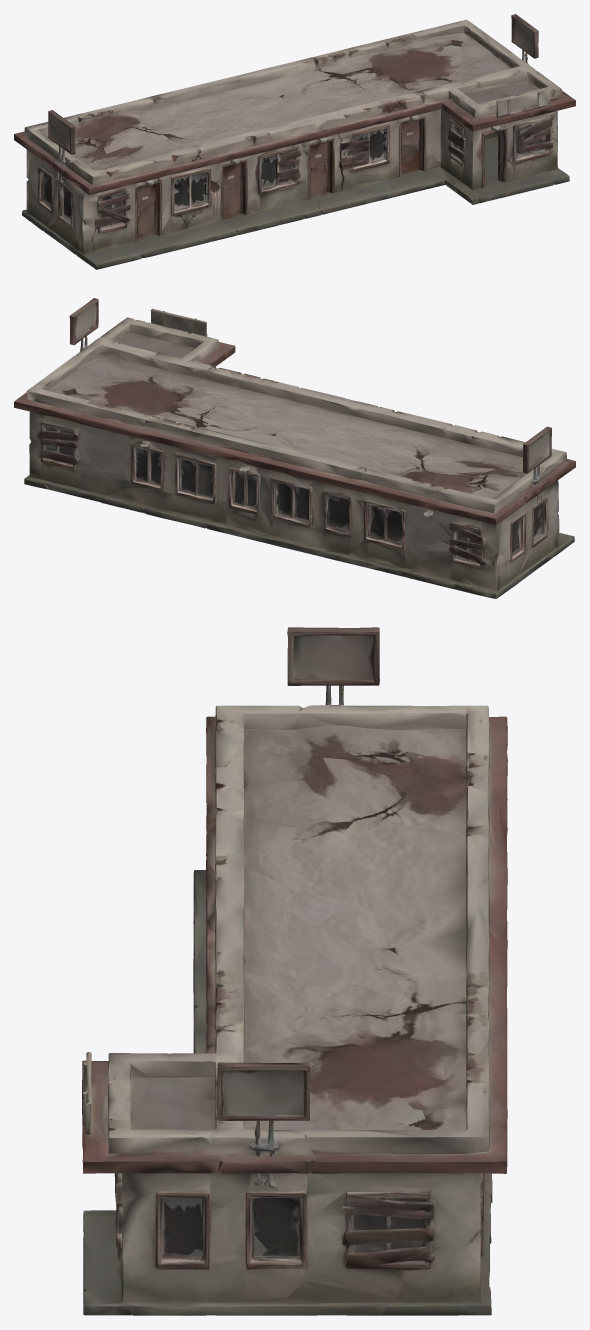
File: motel_idle.glb
3 views of the same model, one above another, from view 1: azimuth 30°, elevation 25°; view 2: azimuth 150°, elevation 25°; view 3: azimuth 270°, elevation 25° (orthographic). The views are drawn at different scales.
Visible parts, largest first — view 1: tripo_node_341fe81d-8caf-43d6-8a0e-61a10c1145c2; view 2: tripo_node_341fe81d-8caf-43d6-8a0e-61a10c1145c2; view 3: tripo_node_341fe81d-8caf-43d6-8a0e-61a10c1145c2.
Part boxes in pixels (x1,y1,x2,y2): tripo_node_341fe81d-8caf-43d6-8a0e-61a10c1145c2: (14,14,575,269); tripo_node_341fe81d-8caf-43d6-8a0e-61a10c1145c2: (14,298,575,598); tripo_node_341fe81d-8caf-43d6-8a0e-61a10c1145c2: (82,627,507,1315).
Size of the model in its own units: 20 by 5.27 by 8.08.
1 material, 1 textured.
